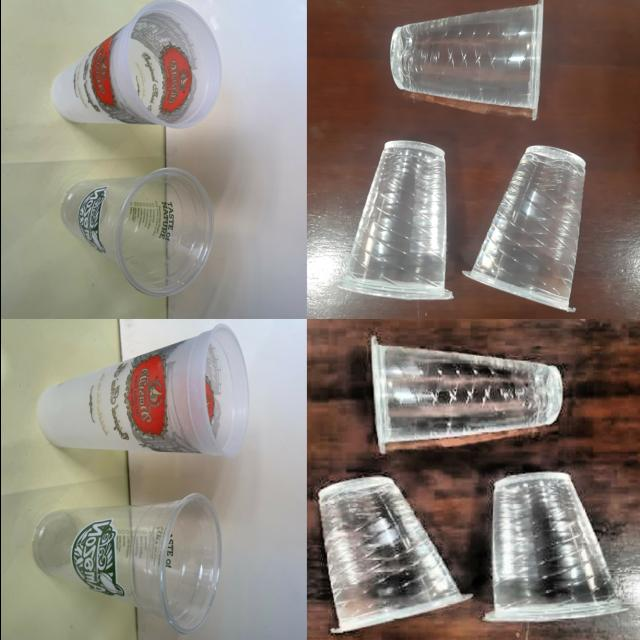plastik: (36, 324, 248, 457), (32, 494, 220, 633), (318, 476, 470, 633), (370, 336, 562, 453), (51, 0, 220, 128), (483, 473, 626, 622), (462, 145, 584, 312), (61, 168, 213, 297), (337, 140, 452, 299), (389, 0, 541, 119)
